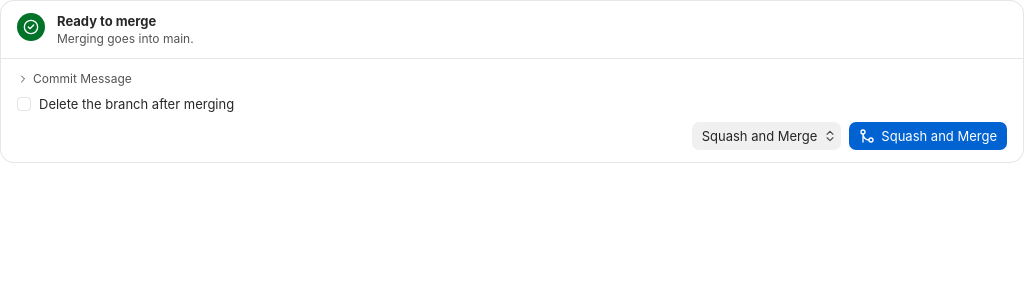
Scenario: MergeBox › ignores a kept message it can't read (null)
Click the button "Commit Message": (74, 78) x1=17 y1=71 x2=132 y2=86
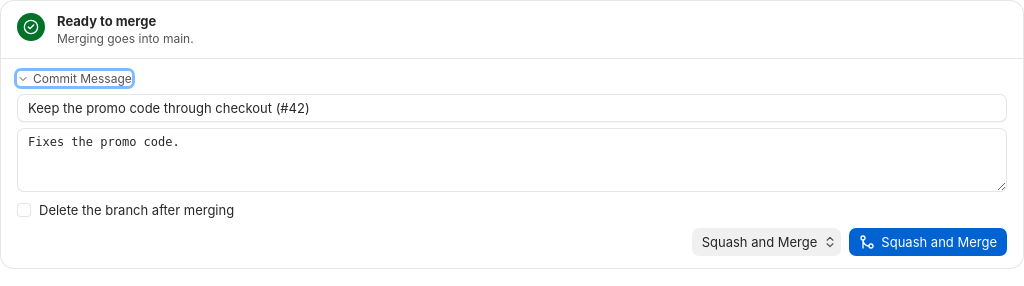
Result: the field named "Commit title" does not hold "x" at x1=17 y1=94 x2=1007 y2=122
